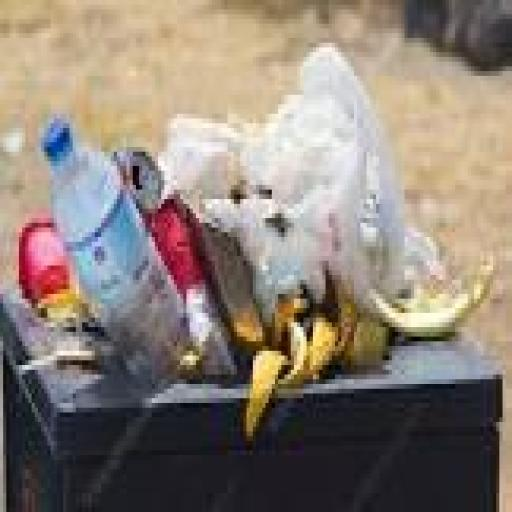poubelle_pleine: (6, 63, 504, 512)
